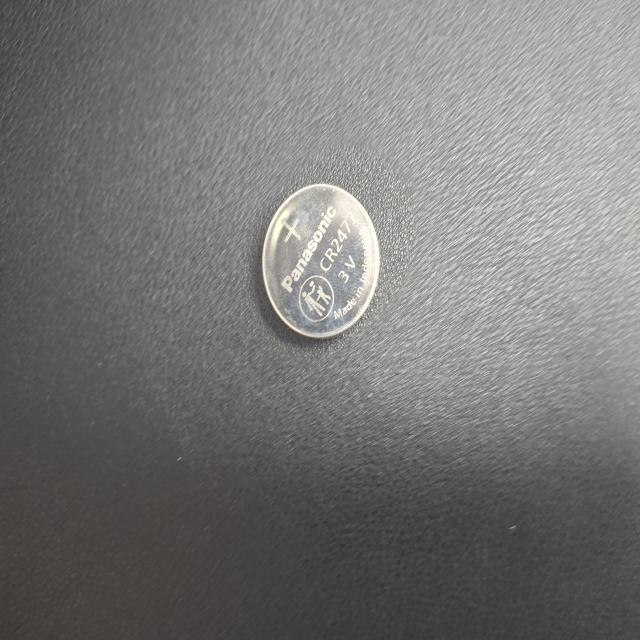COIN: (137, 345, 256, 503)
